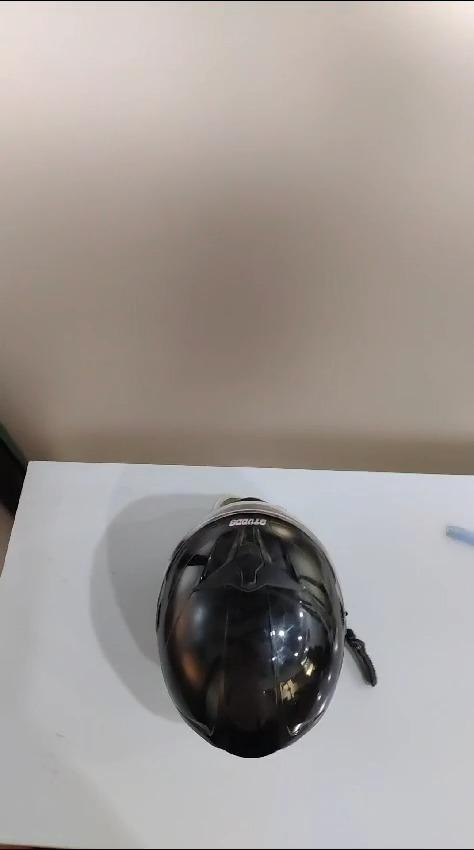Helmet: (156, 498, 376, 756)
